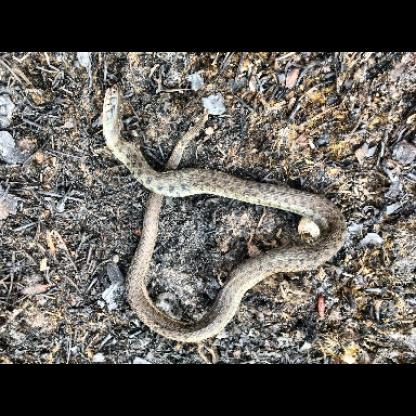Snake: (101, 88, 349, 347)
